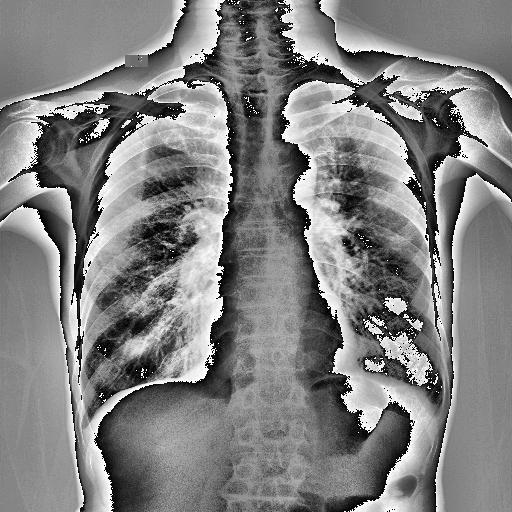0- Aortic enlargement: (251, 140, 319, 190), (268, 143, 316, 194)
11- Pleural thickening: (298, 76, 363, 98), (142, 76, 214, 94), (156, 75, 215, 92), (290, 73, 354, 88), (164, 76, 212, 90), (408, 381, 430, 400)
5- ILD: (387, 236, 415, 252)
